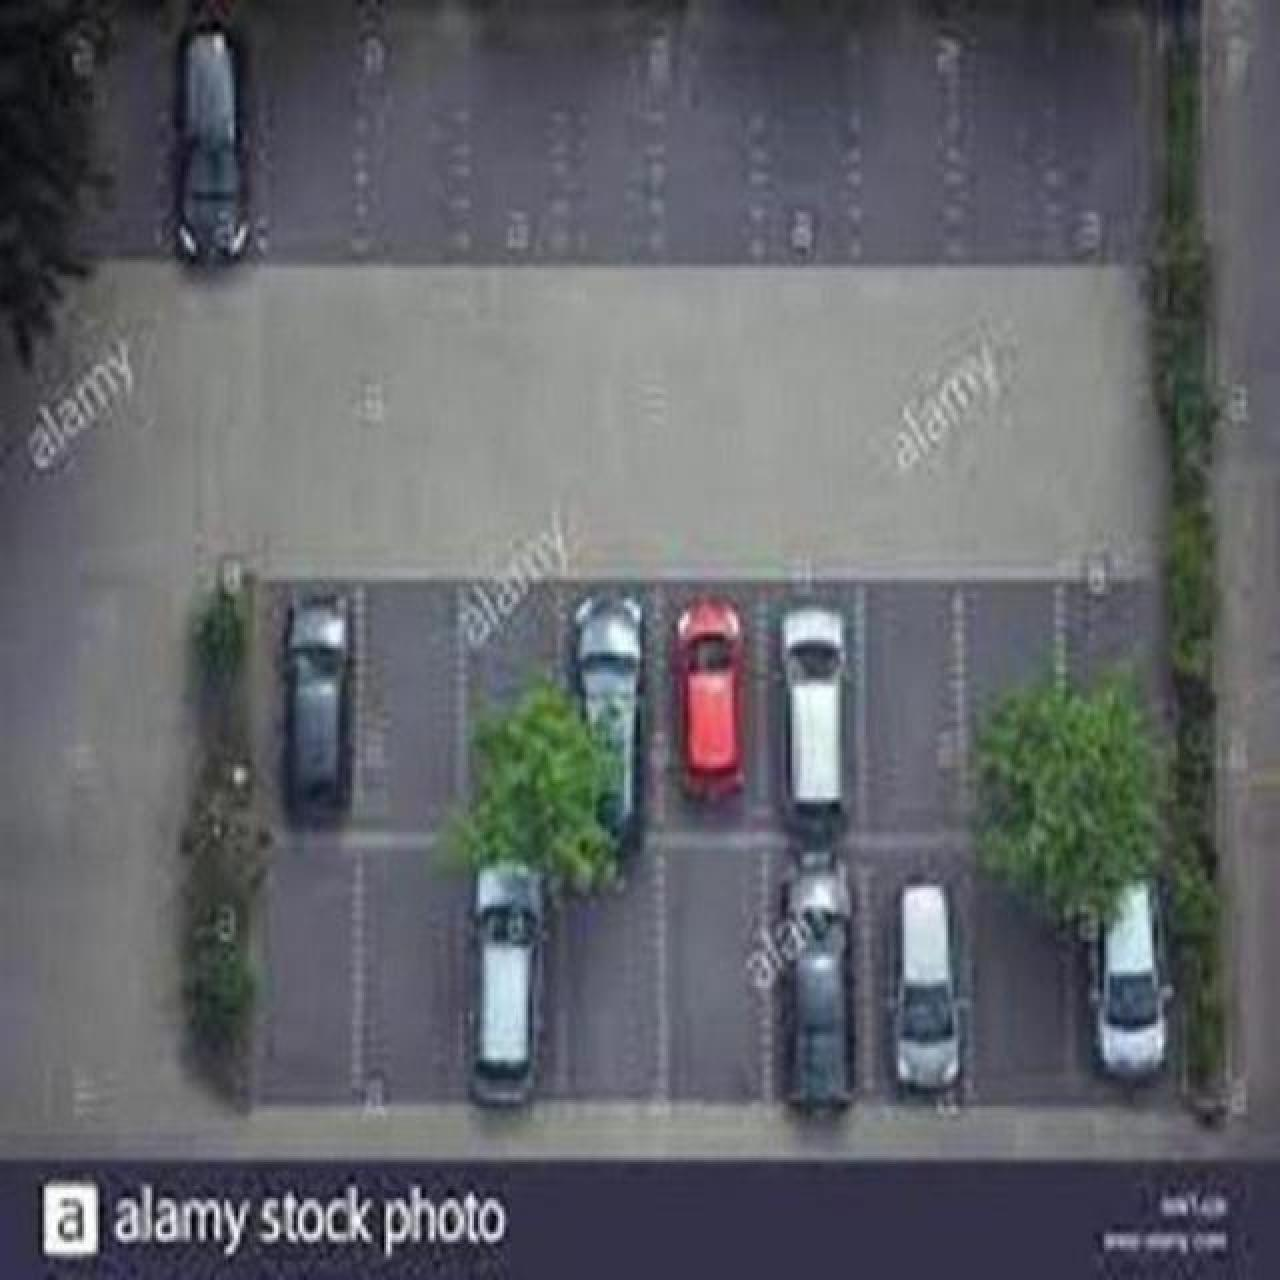car: (564, 588, 644, 855), (774, 855, 856, 1112), (170, 20, 252, 268), (467, 860, 549, 1108), (1085, 874, 1172, 1080), (280, 594, 352, 822), (668, 592, 745, 802), (892, 878, 964, 1094), (778, 604, 847, 818), (568, 590, 642, 697)
